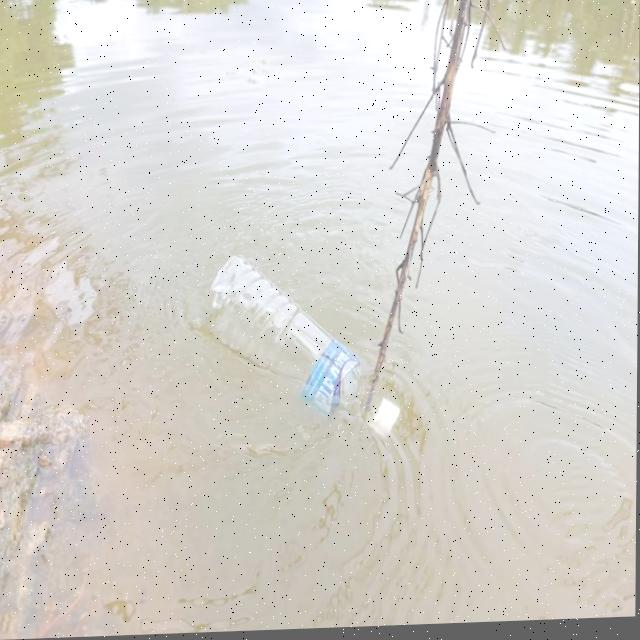waterbottle: (185, 247, 413, 468)
